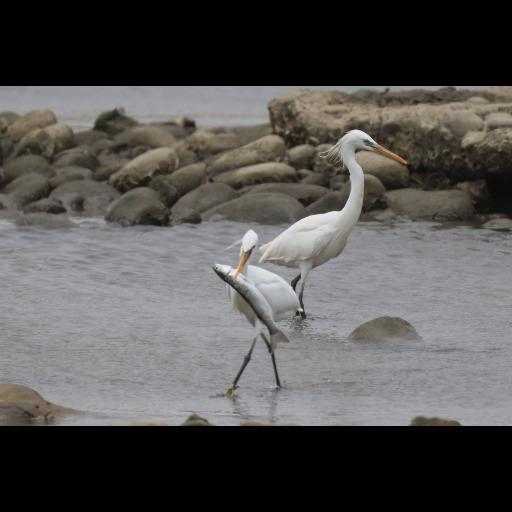chinese_egret: (260, 128, 410, 322), (226, 230, 298, 396)
